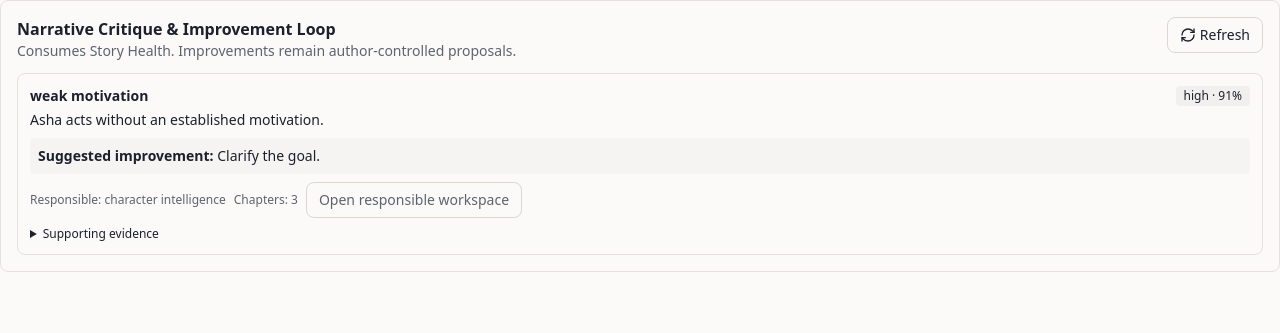
Test: completed product experience › shows routed critique evidence and never presents automatic application
Expected: the text "weak motivation" is shown, [30,86,148,106]
Expected: the text "Responsible: character intelligence" is shown, [30,192,226,208]
Click the heading "Supporting evidence".
click(101, 234)  # box [43,225,159,242]
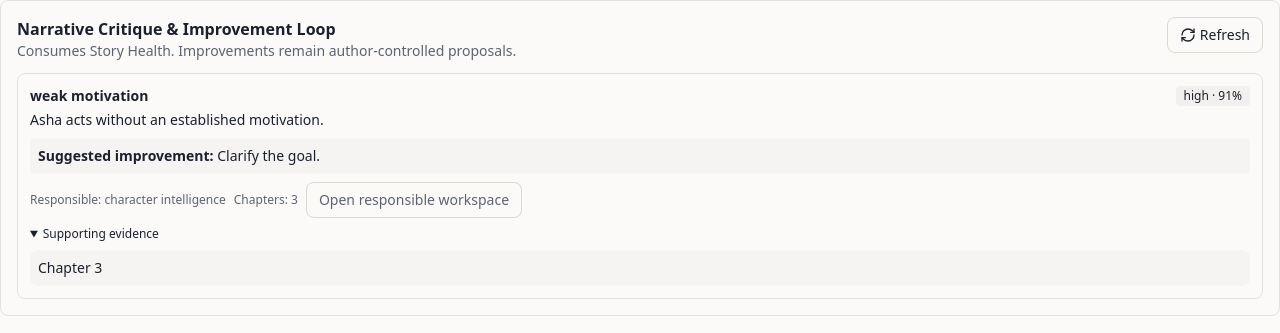
Expected: the list item "Chapter 3" is shown, [30,250,1250,286]
